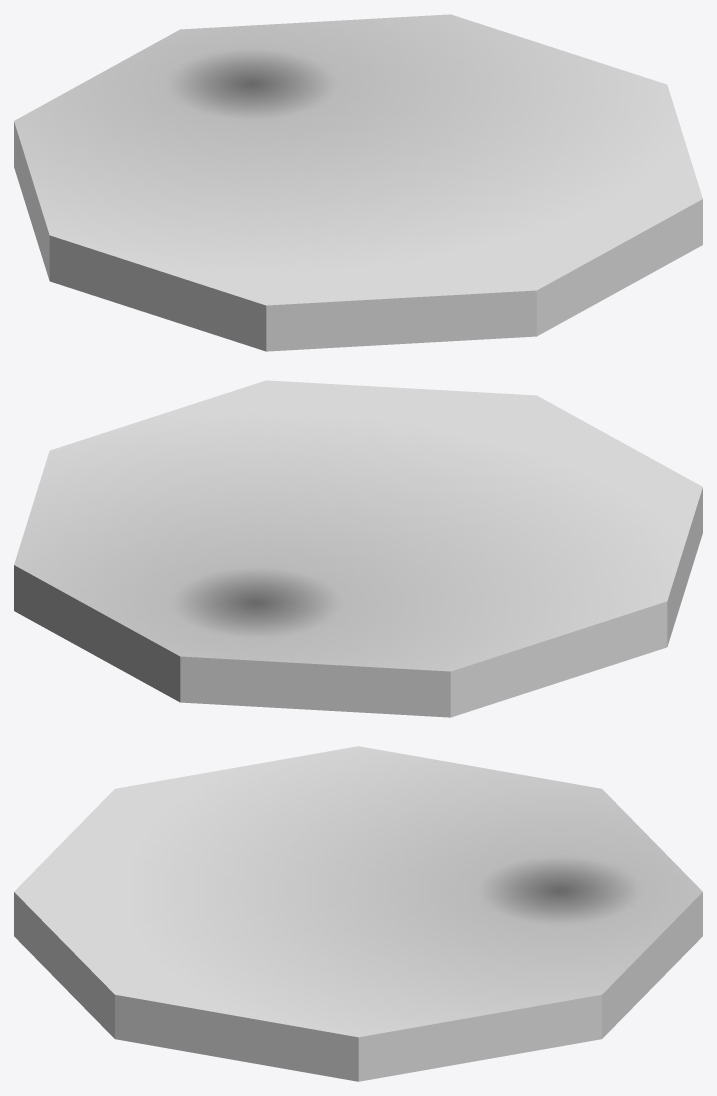
Rendered from JuicecCup_Lid.fbx.
3 renders of one model, top to bottom at view 1: azimuth 30°, elevation 25°; view 2: azimuth 150°, elevation 25°; view 3: azimuth 270°, elevation 25°, orthographic. The views are drawn at different scales.
Parts seen in each view (by area): view 1: JuicecCup_Lid; view 2: JuicecCup_Lid; view 3: JuicecCup_Lid.
Boxes of the visible parts, x1=… form: JuicecCup_Lid: x1=14, y1=14, x2=702, y2=351; JuicecCup_Lid: x1=14, y1=380, x2=702, y2=717; JuicecCup_Lid: x1=14, y1=746, x2=702, y2=1081.
Size of the model in its own units: 105 by 7.5 by 105.
